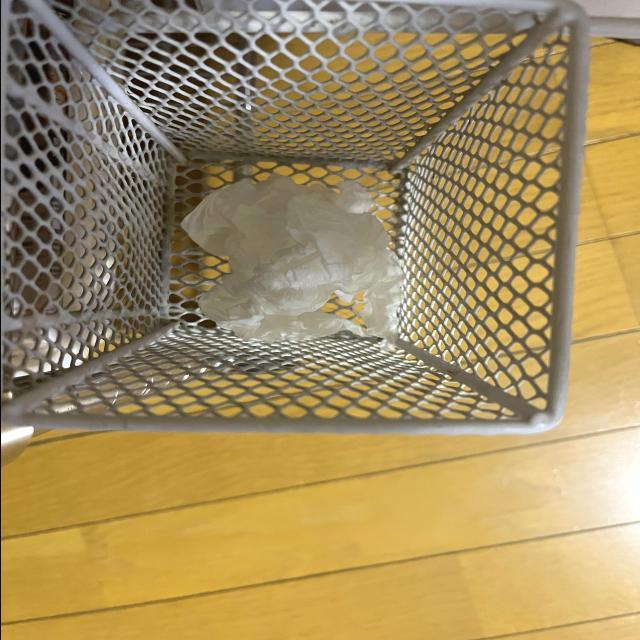Paper: (193, 182, 379, 340)
